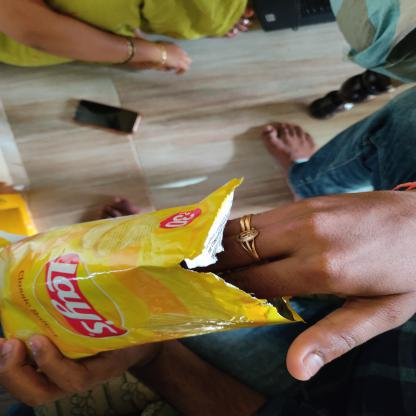classicsalted: (0, 175, 305, 362)
